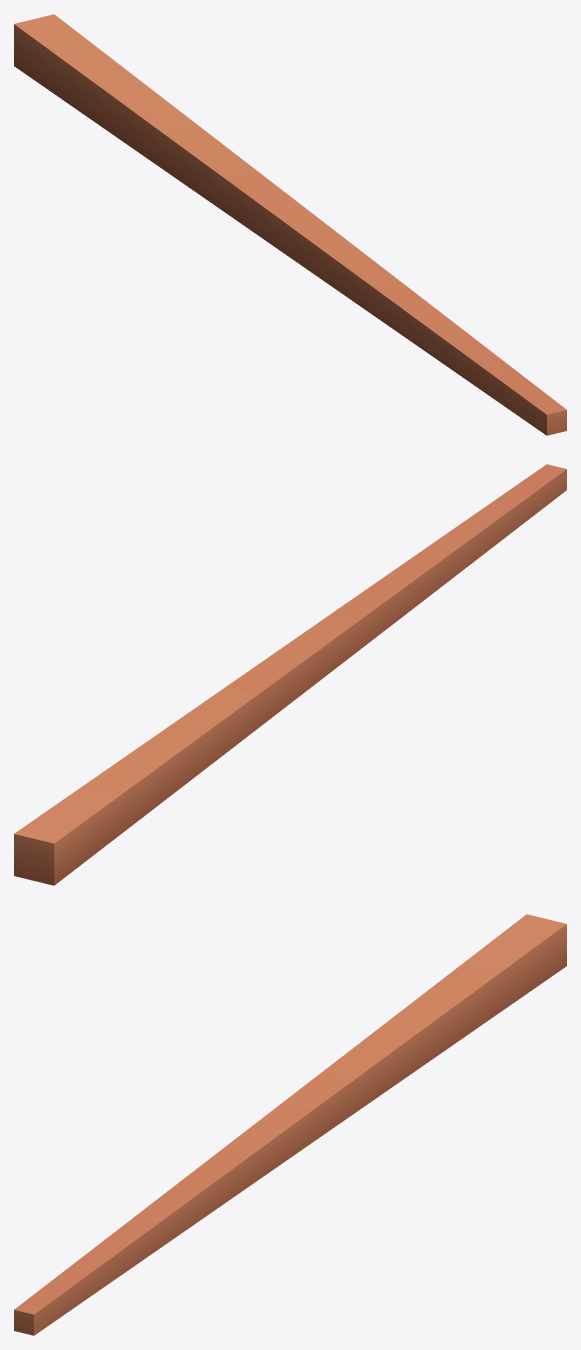
Rendered from chopstick.glb.
3 renders of one model, top to bottom at view 1: azimuth 30°, elevation 25°; view 2: azimuth 150°, elevation 25°; view 3: azimuth 330°, elevation 25°, orthographic.
Visible parts, largest first — view 1: chopstick; view 2: chopstick; view 3: chopstick.
Part boxes in pixels (x1,y1,x2,y2): chopstick: [14, 14, 566, 435]; chopstick: [14, 464, 566, 885]; chopstick: [14, 914, 566, 1335].
Size of the model in its own units: 0.02 by 0.02 by 0.45.
Materials: 1 (1 with a texture image).
